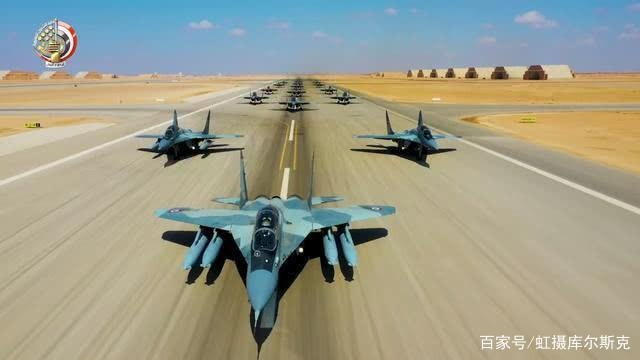airplane: (156, 139, 389, 341), (132, 106, 246, 160), (354, 108, 463, 161), (276, 96, 312, 117), (326, 91, 358, 107), (243, 89, 268, 104)
